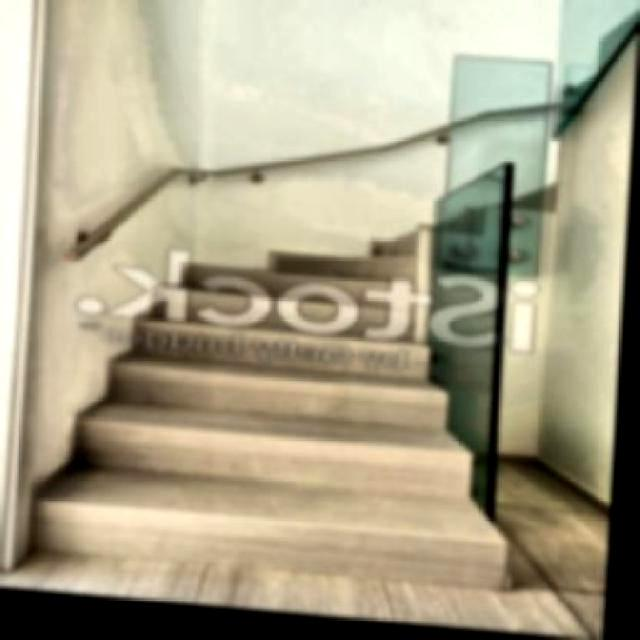stair: (28, 152, 510, 588)
